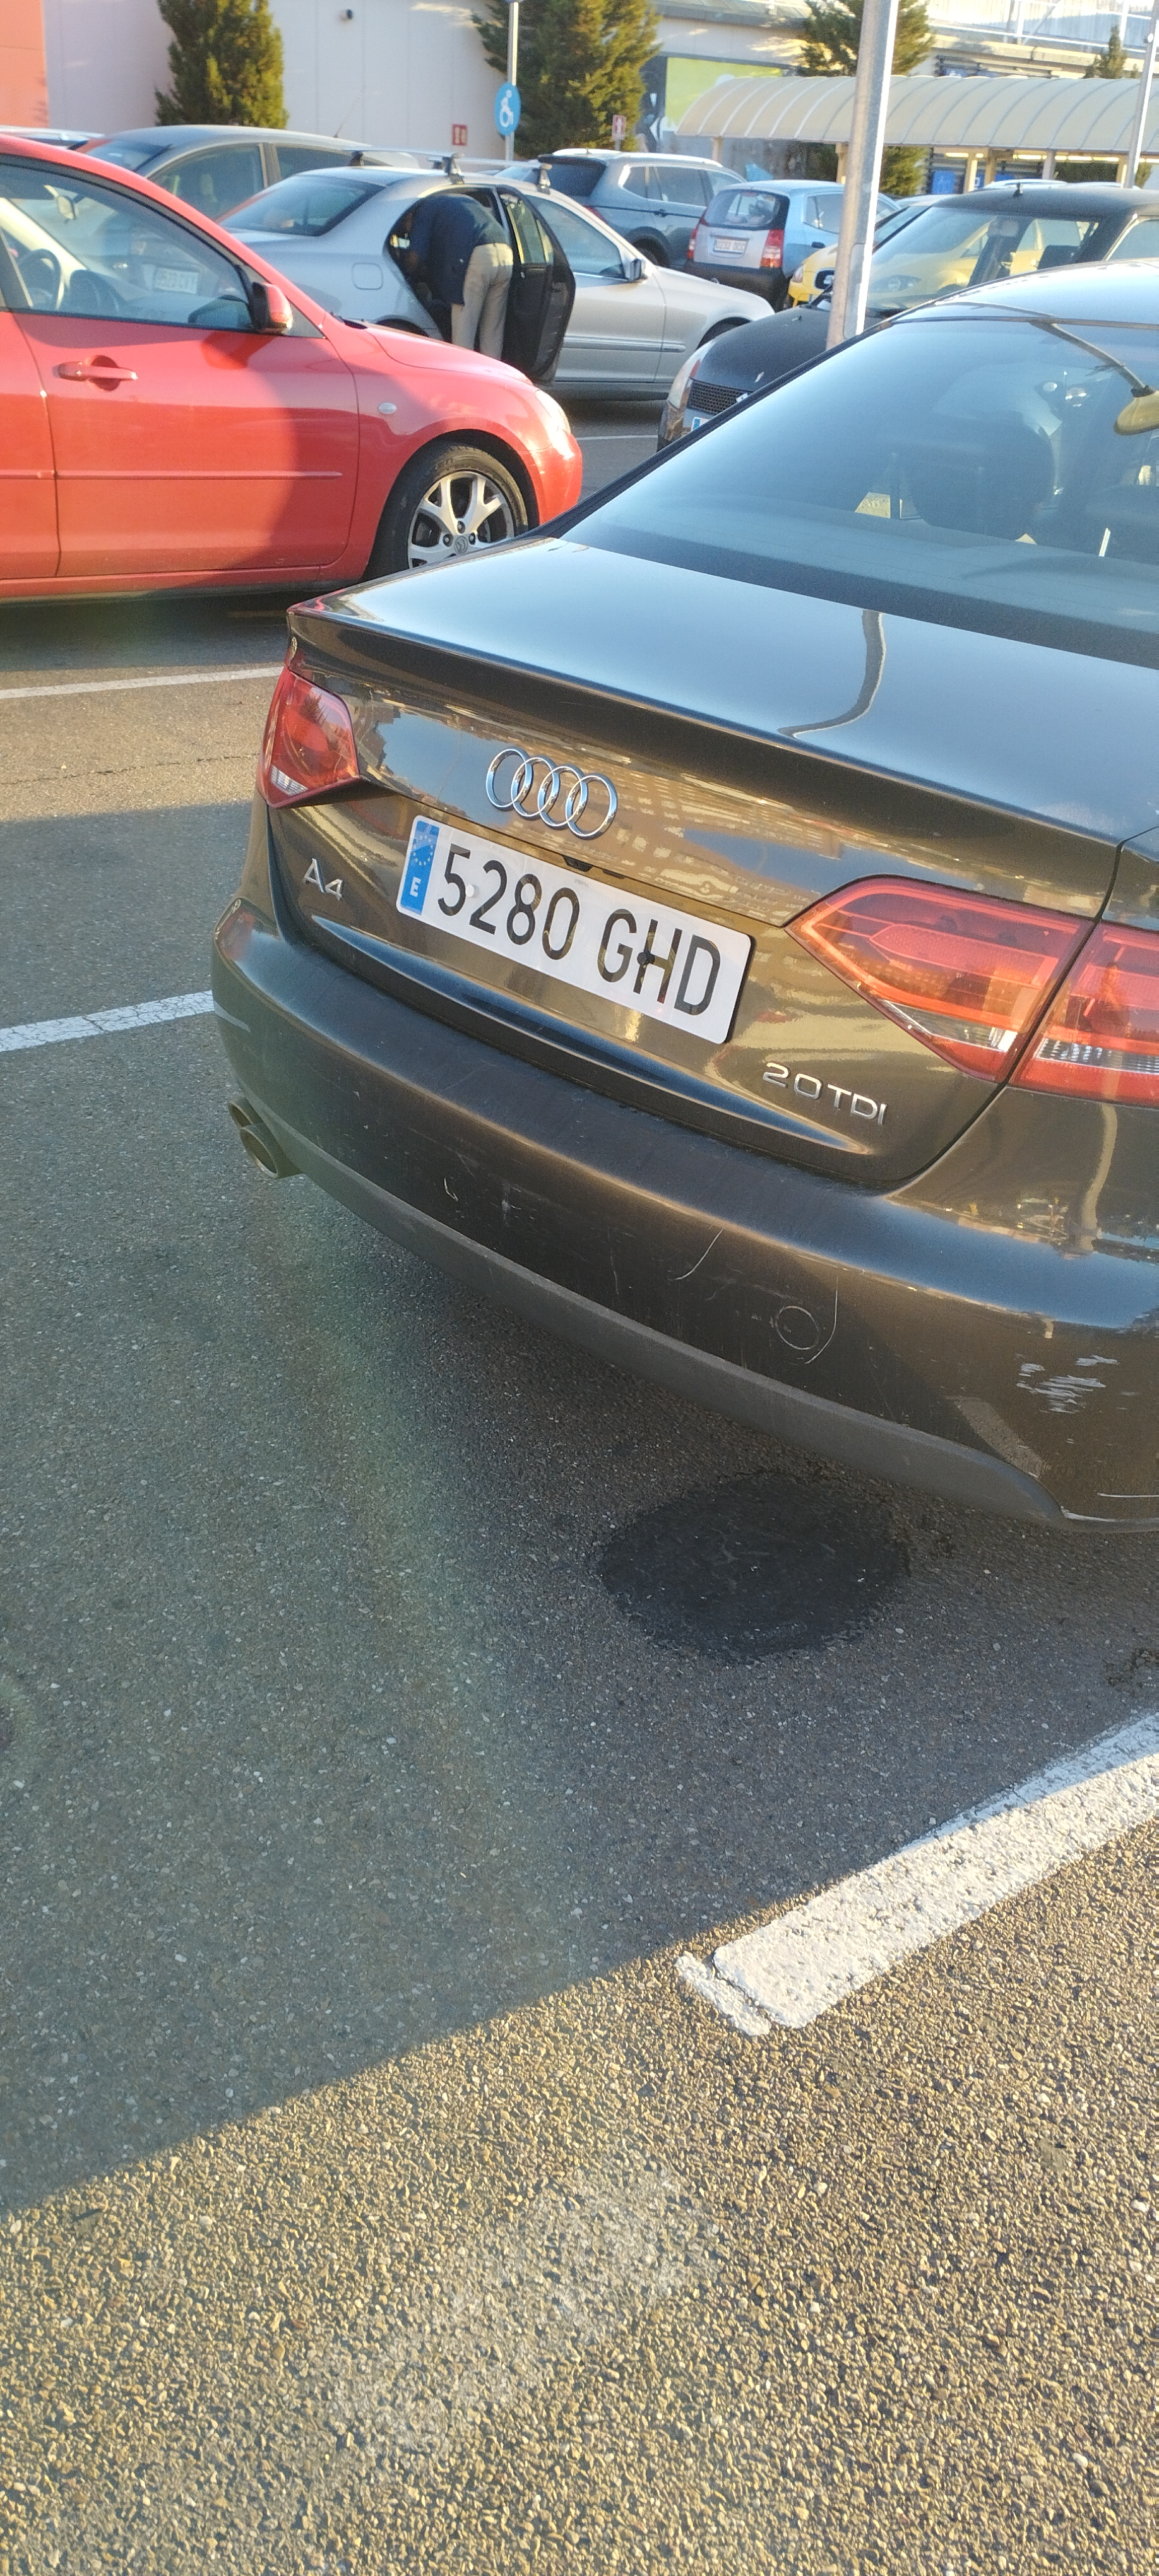Car: (227, 270, 1158, 1546)
Plate: (417, 811, 780, 922)
